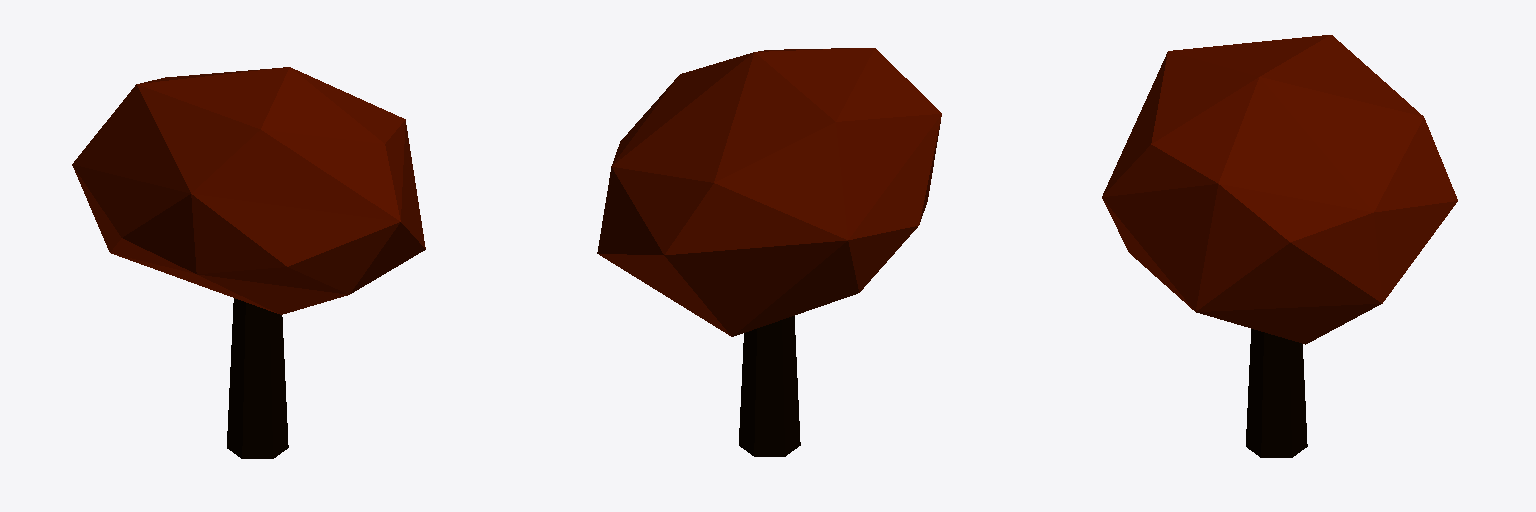
File: tree3.obj
3 renders of one model, left to right at view 1: azimuth 30°, elevation 25°; view 2: azimuth 150°, elevation 25°; view 3: azimuth 270°, elevation 25°, orthographic.
Visible parts, largest first — view 1: Icosphere.002_Icosphere.016, Cylinder.002_Cylinder.008; view 2: Icosphere.002_Icosphere.016, Cylinder.002_Cylinder.008; view 3: Icosphere.002_Icosphere.016, Cylinder.002_Cylinder.008.
Part boxes in pixels (x1,y1,x2,y2): Icosphere.002_Icosphere.016: (72,67,425,314); Cylinder.002_Cylinder.008: (227,298,288,458); Icosphere.002_Icosphere.016: (597,48,941,336); Cylinder.002_Cylinder.008: (739,316,800,456); Icosphere.002_Icosphere.016: (1102,35,1457,344); Cylinder.002_Cylinder.008: (1246,329,1307,457).
Size of the model in its own units: 8.39 by 10.71 by 9.08.